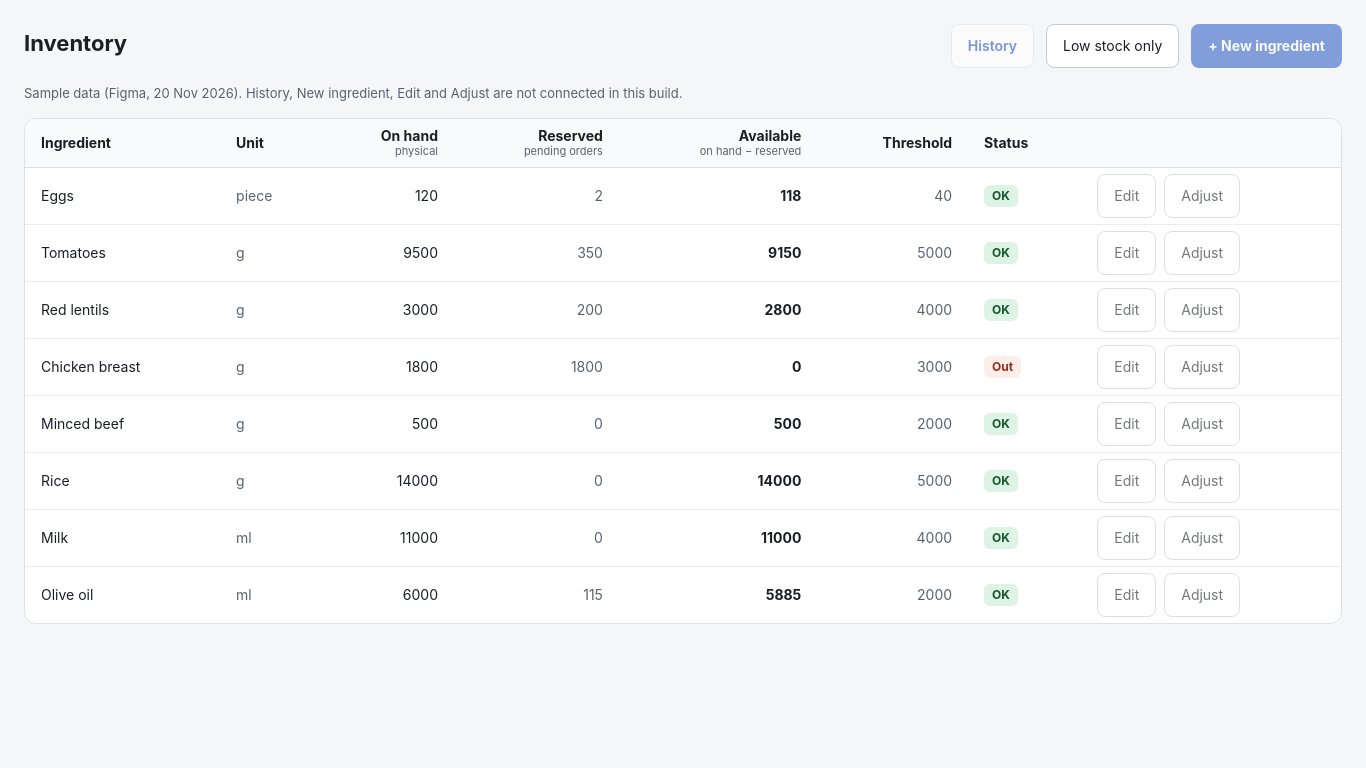
Test: InventoryPage › says so when Low stock only matches no ingredient, and shows all rows again when turned off
Click the button "Low stock only" at (1113, 46), box [1046,24,1179,68]
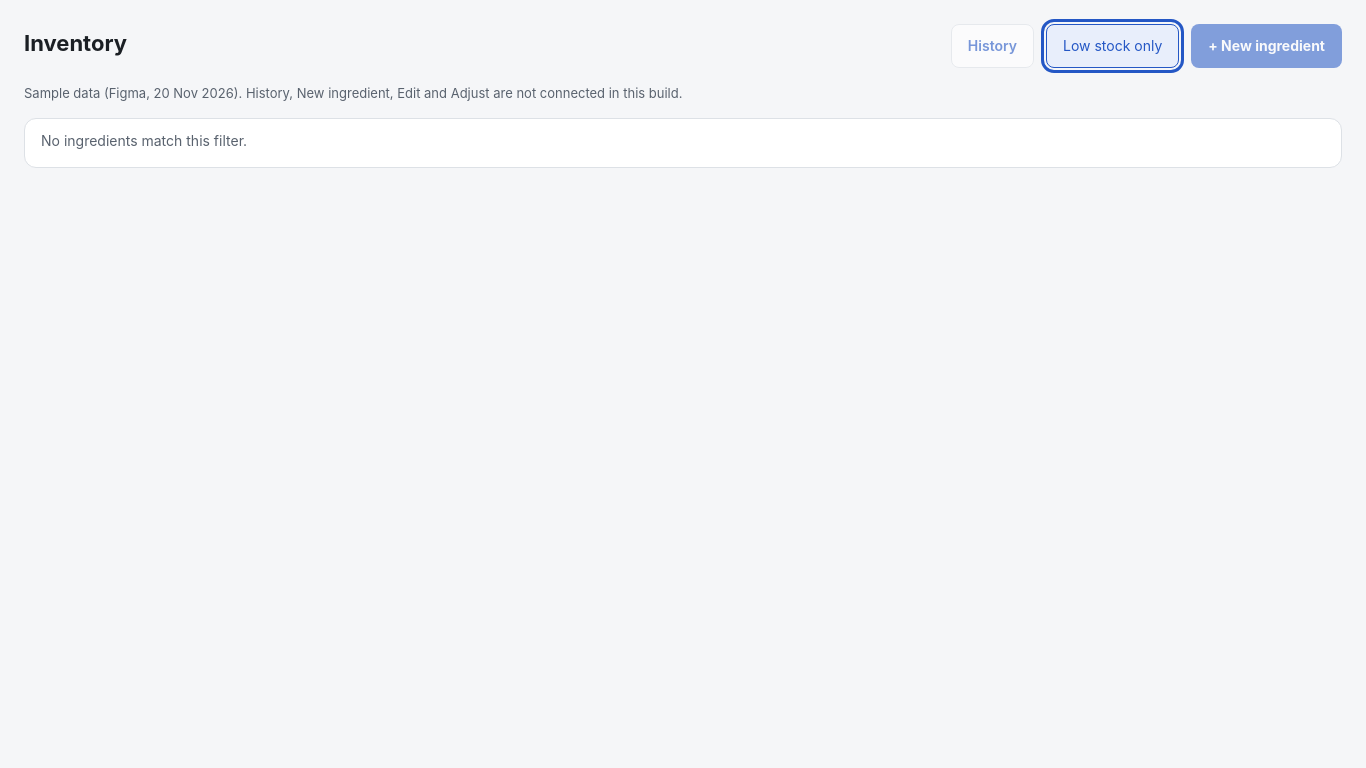
Expected: the text "No ingredients match this filter." is shown, [41,132,247,149]
Expected: the table is gone
Click the button "Low stock only" at (1113, 46), box [1046,24,1179,68]
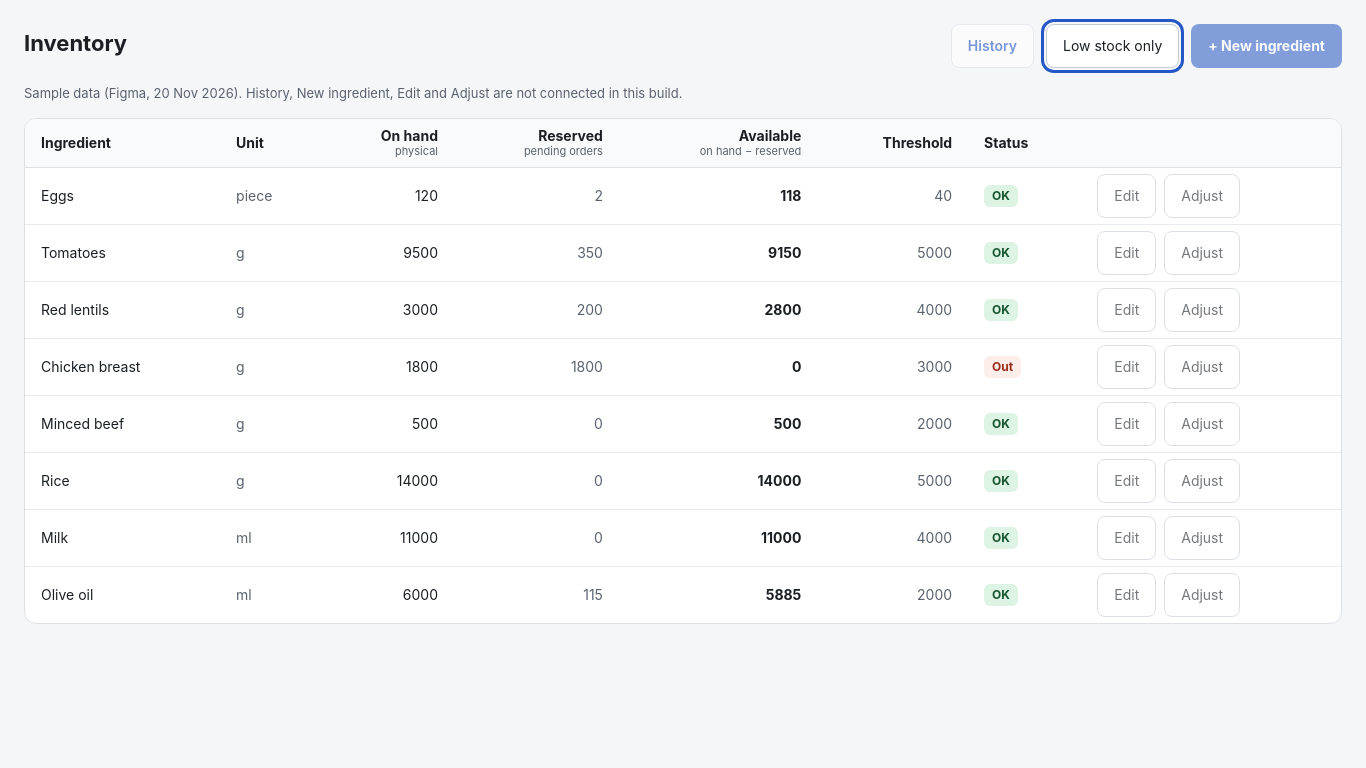
Expected: the text "No ingredients match this filter." is gone
